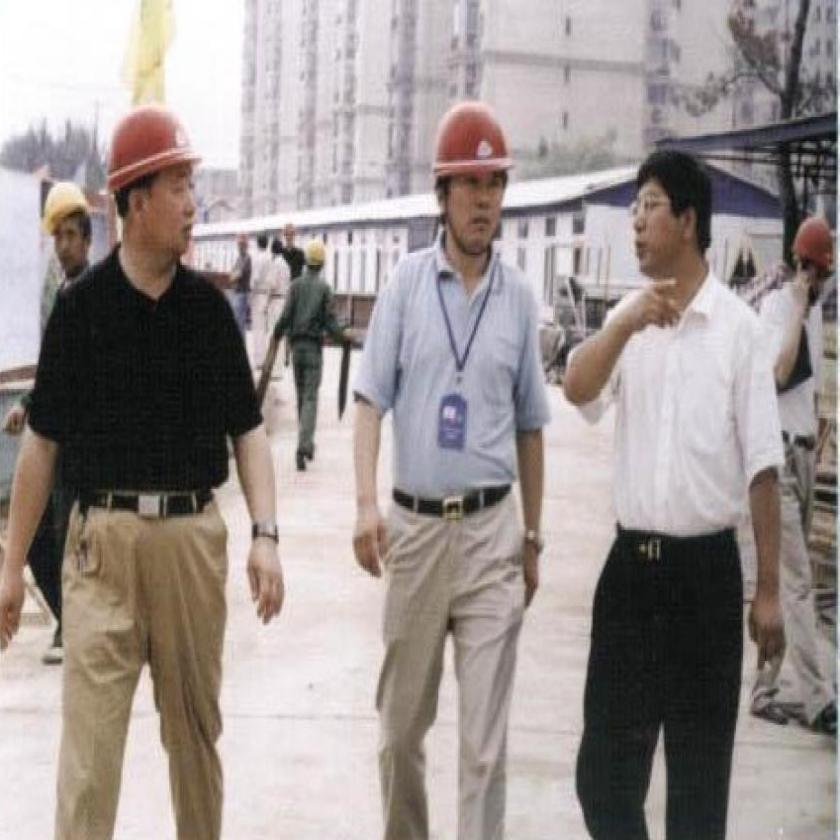Con_casco: (112, 107, 213, 275), (426, 104, 521, 280)
Sin_casco: (608, 112, 729, 327)
